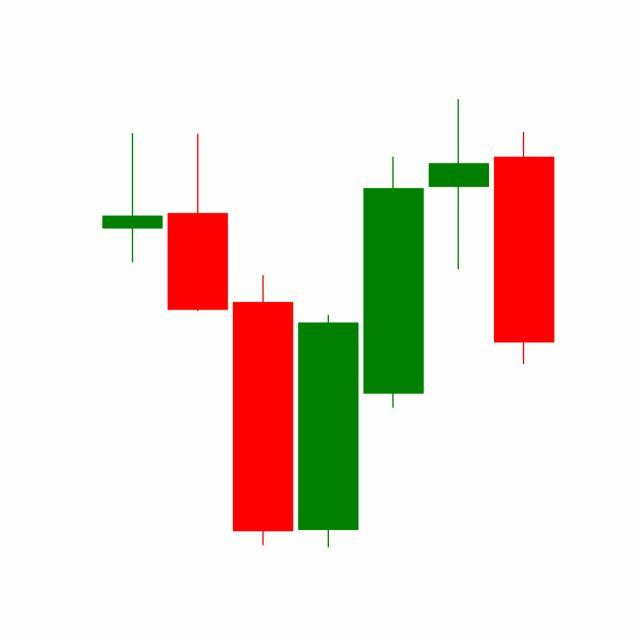Advance Block: (295, 99, 492, 549)
